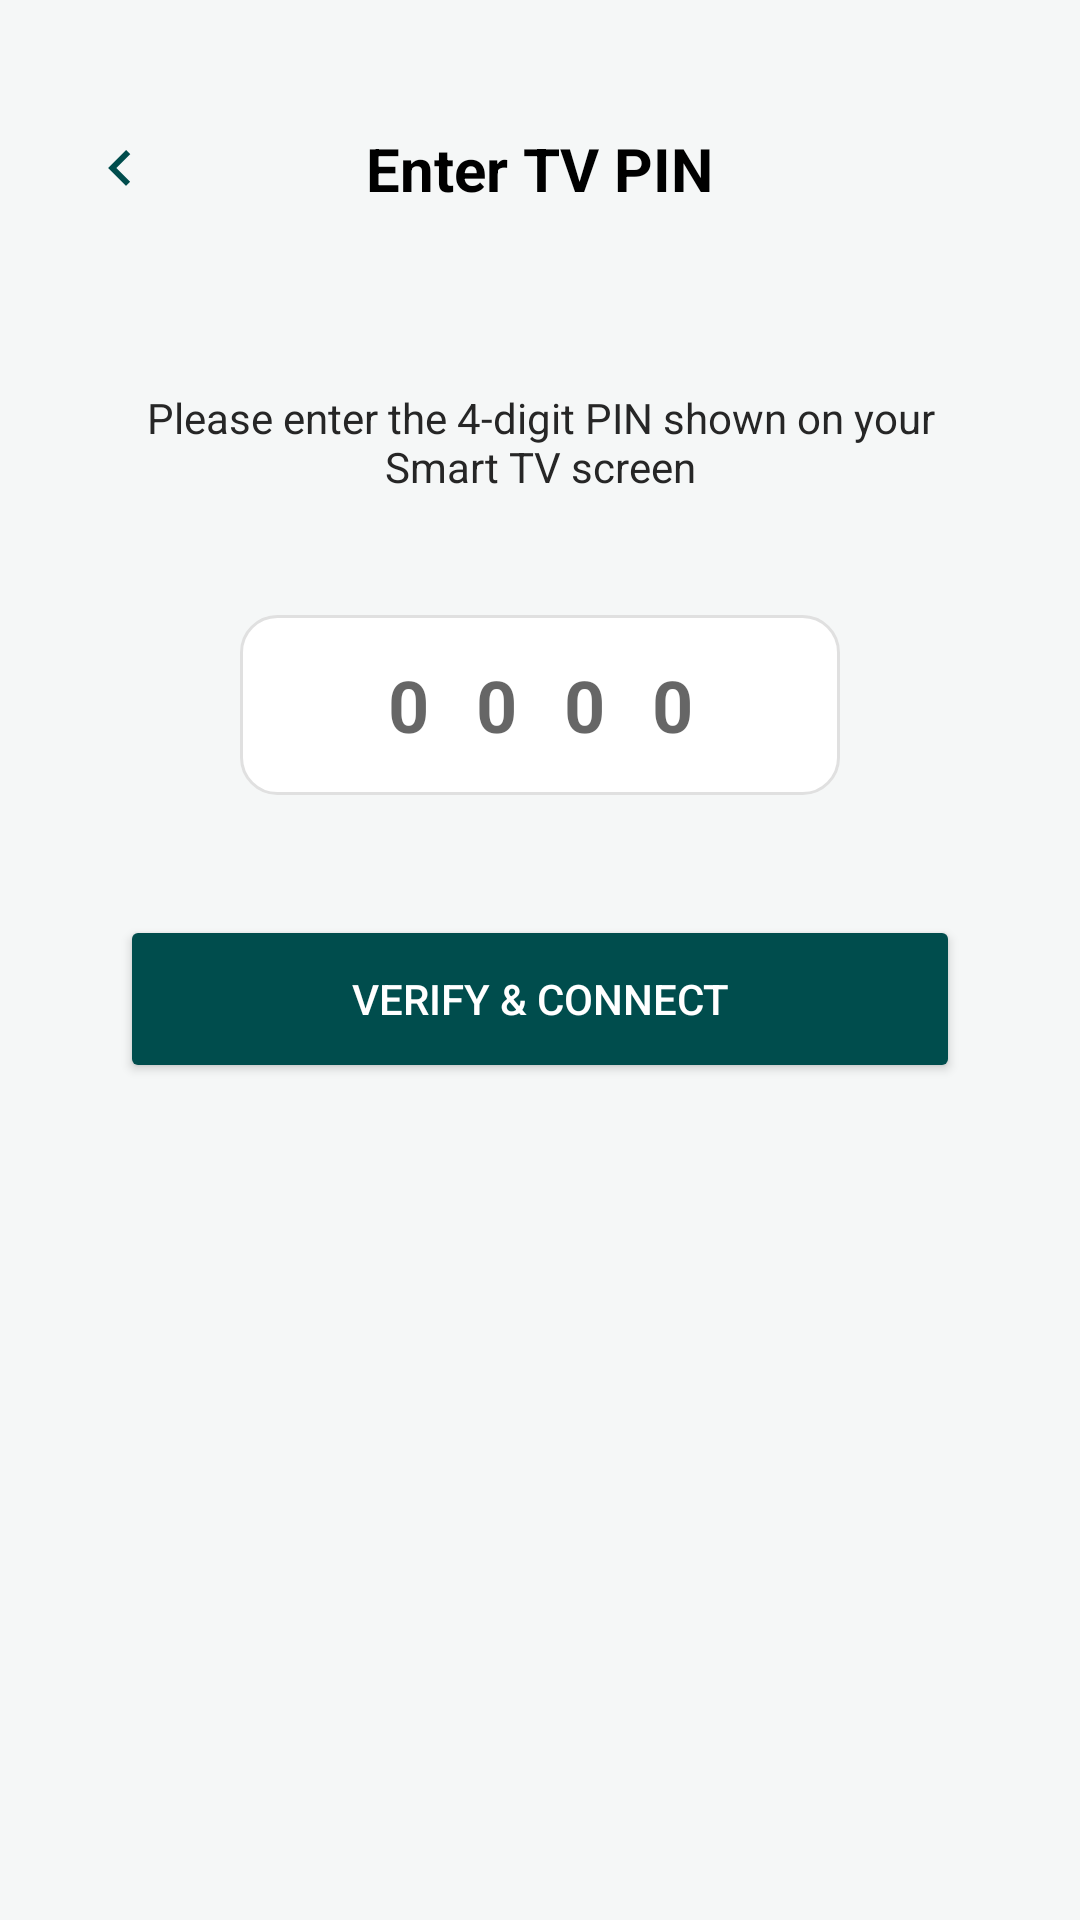

Where to tap for icons on this 1080w x 1920h app screen, as point (x, y):
arrow back: point (119, 168)
